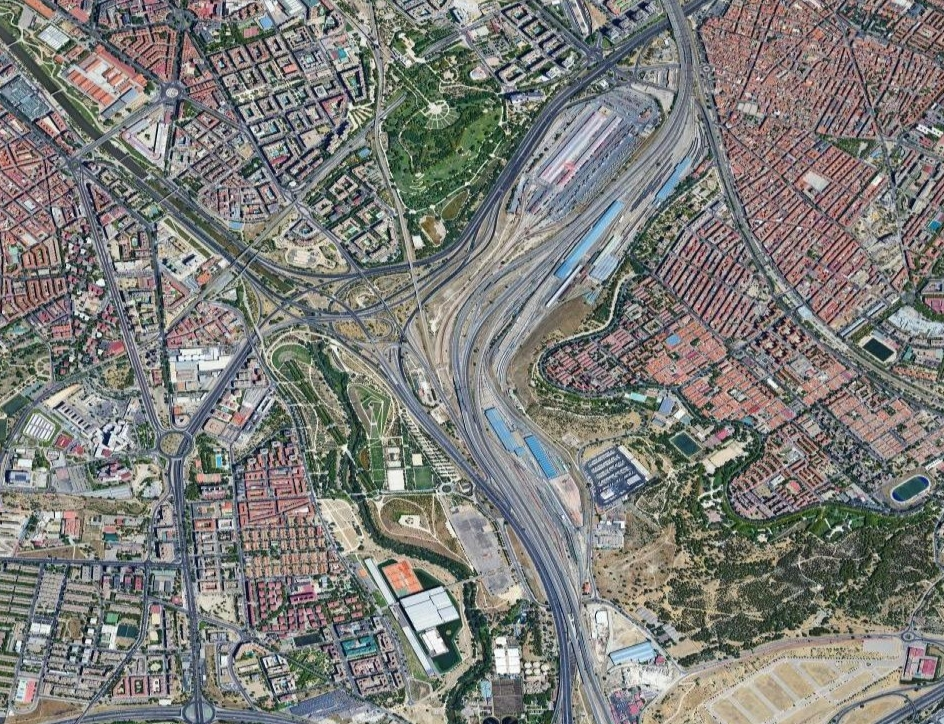motorway: (379, 358, 646, 724), (1, 28, 327, 308), (329, 233, 575, 449), (136, 353, 254, 724), (739, 238, 942, 413), (422, 81, 560, 239), (649, 83, 787, 241), (562, 1, 729, 85)
train_station: (504, 82, 658, 254)
